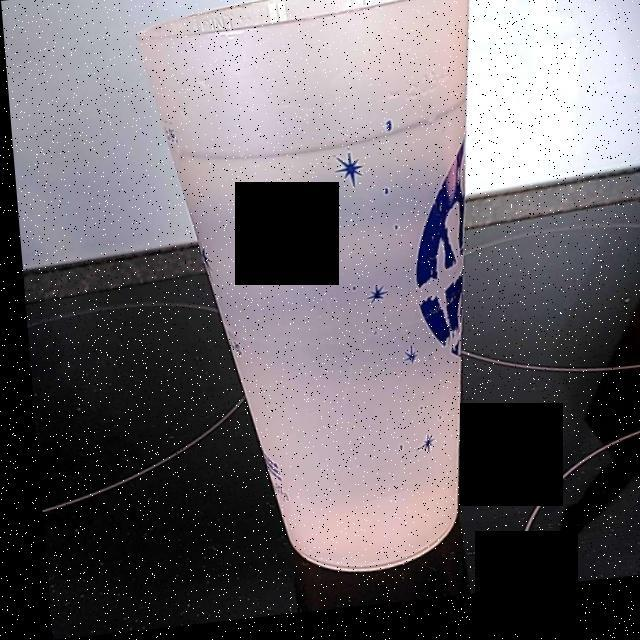water: (176, 115, 471, 577)
